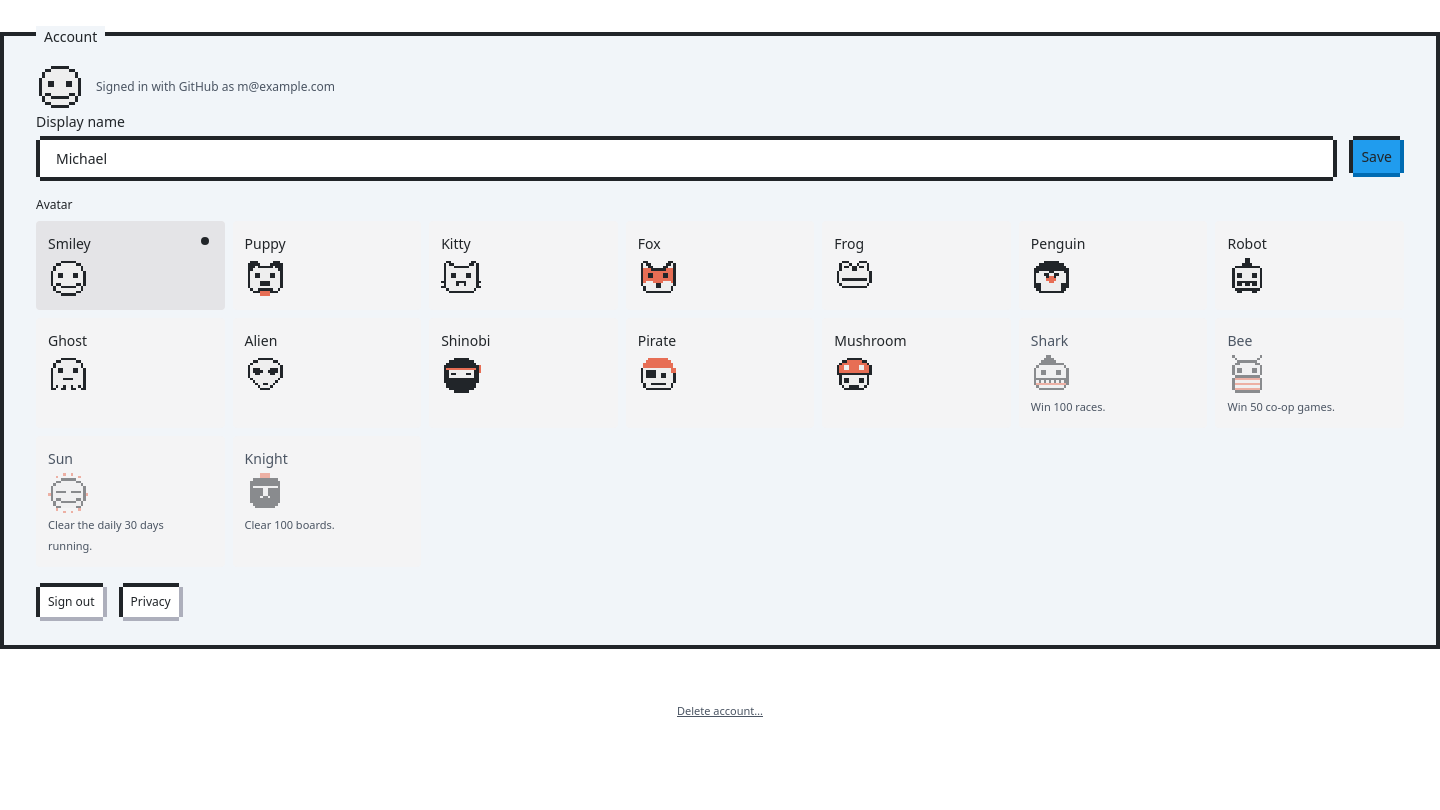
Test: overlapping saves across fields › a rename failure is still reported after an avatar pick follows it
Step 1. Replace the text in the field named "Display name" with "Miguel" → (687, 158), box [40,140,1333,177]
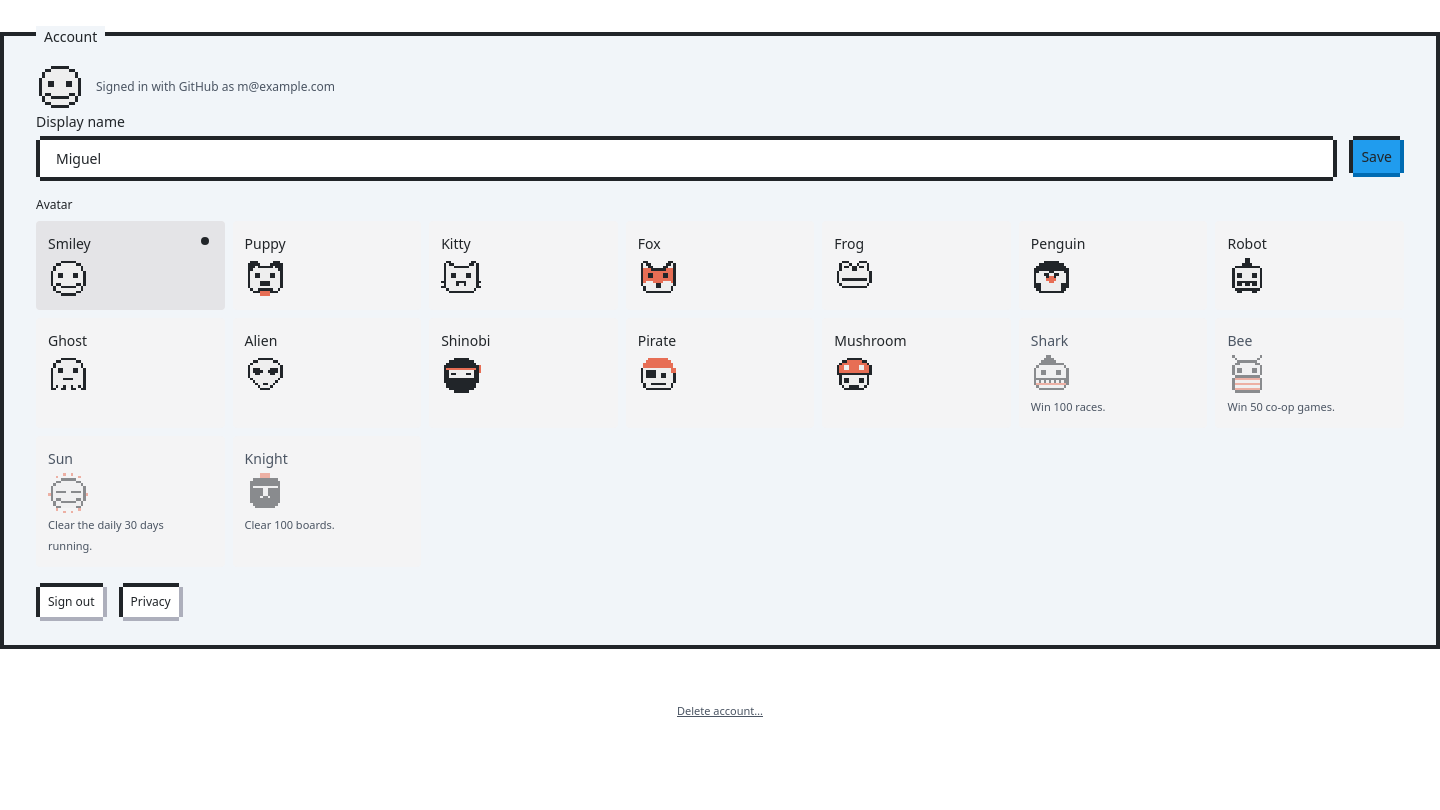
Step 2. Click the button "Save" → (1377, 156), box [1353,140,1400,173]
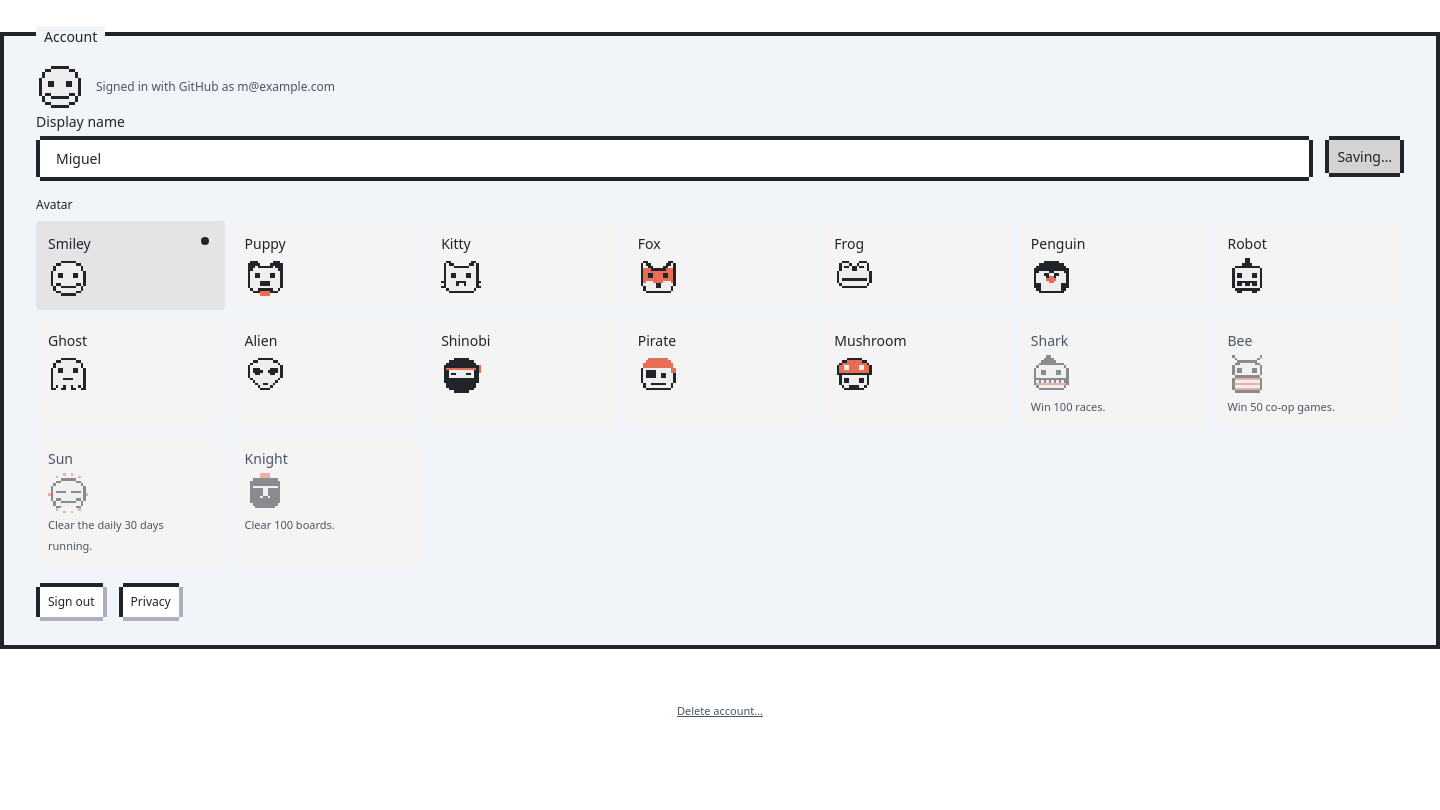
Step 3. Click the radio button labelled "Fox" → (720, 266), box [626,221,814,310]
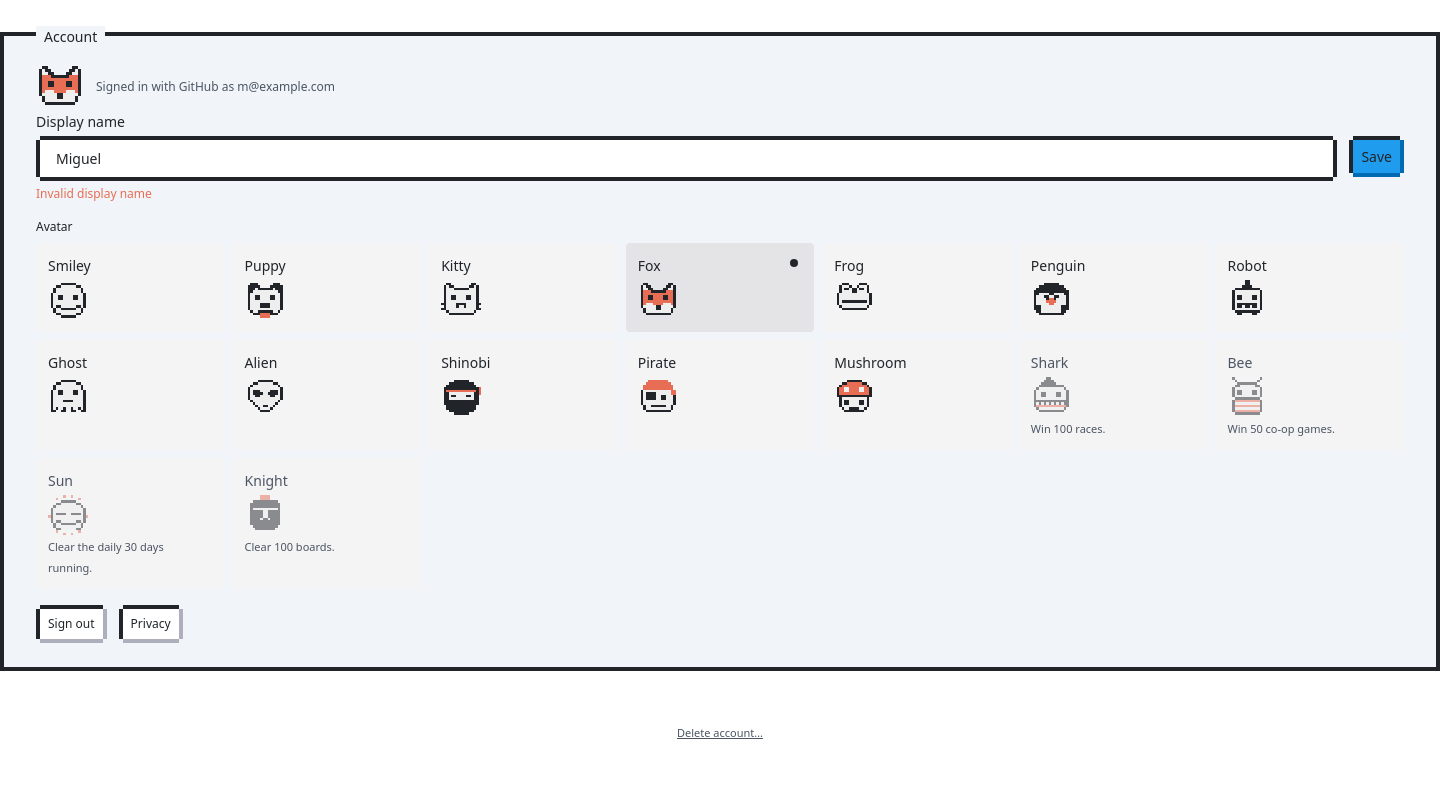
Check: the radio button labelled "Fox" is checked, box [626,243,814,332]
Check: the message reads "Invalid display name", box [36,185,152,202]
